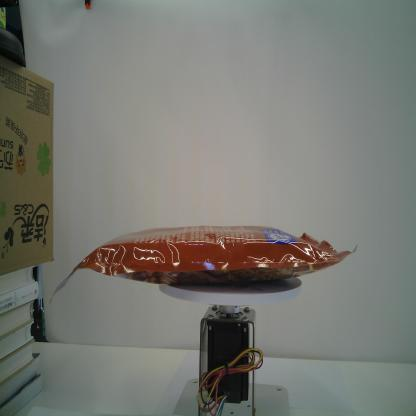Dried Food: (49, 224, 358, 306)
